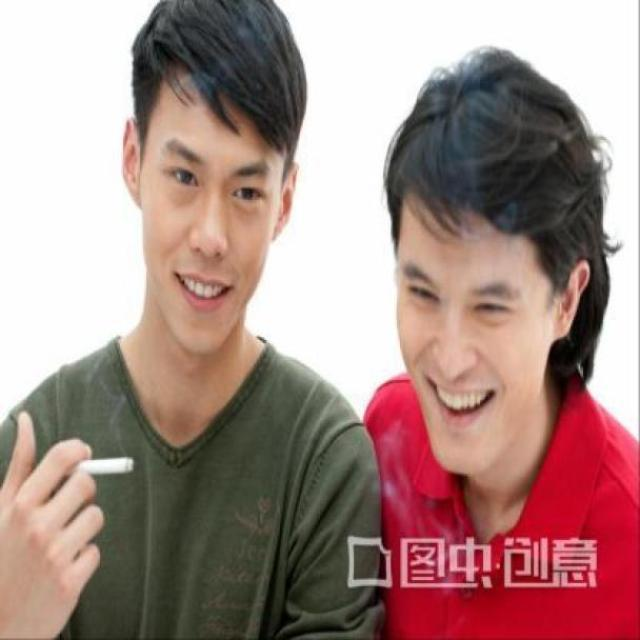rokok: (54, 452, 136, 480)
